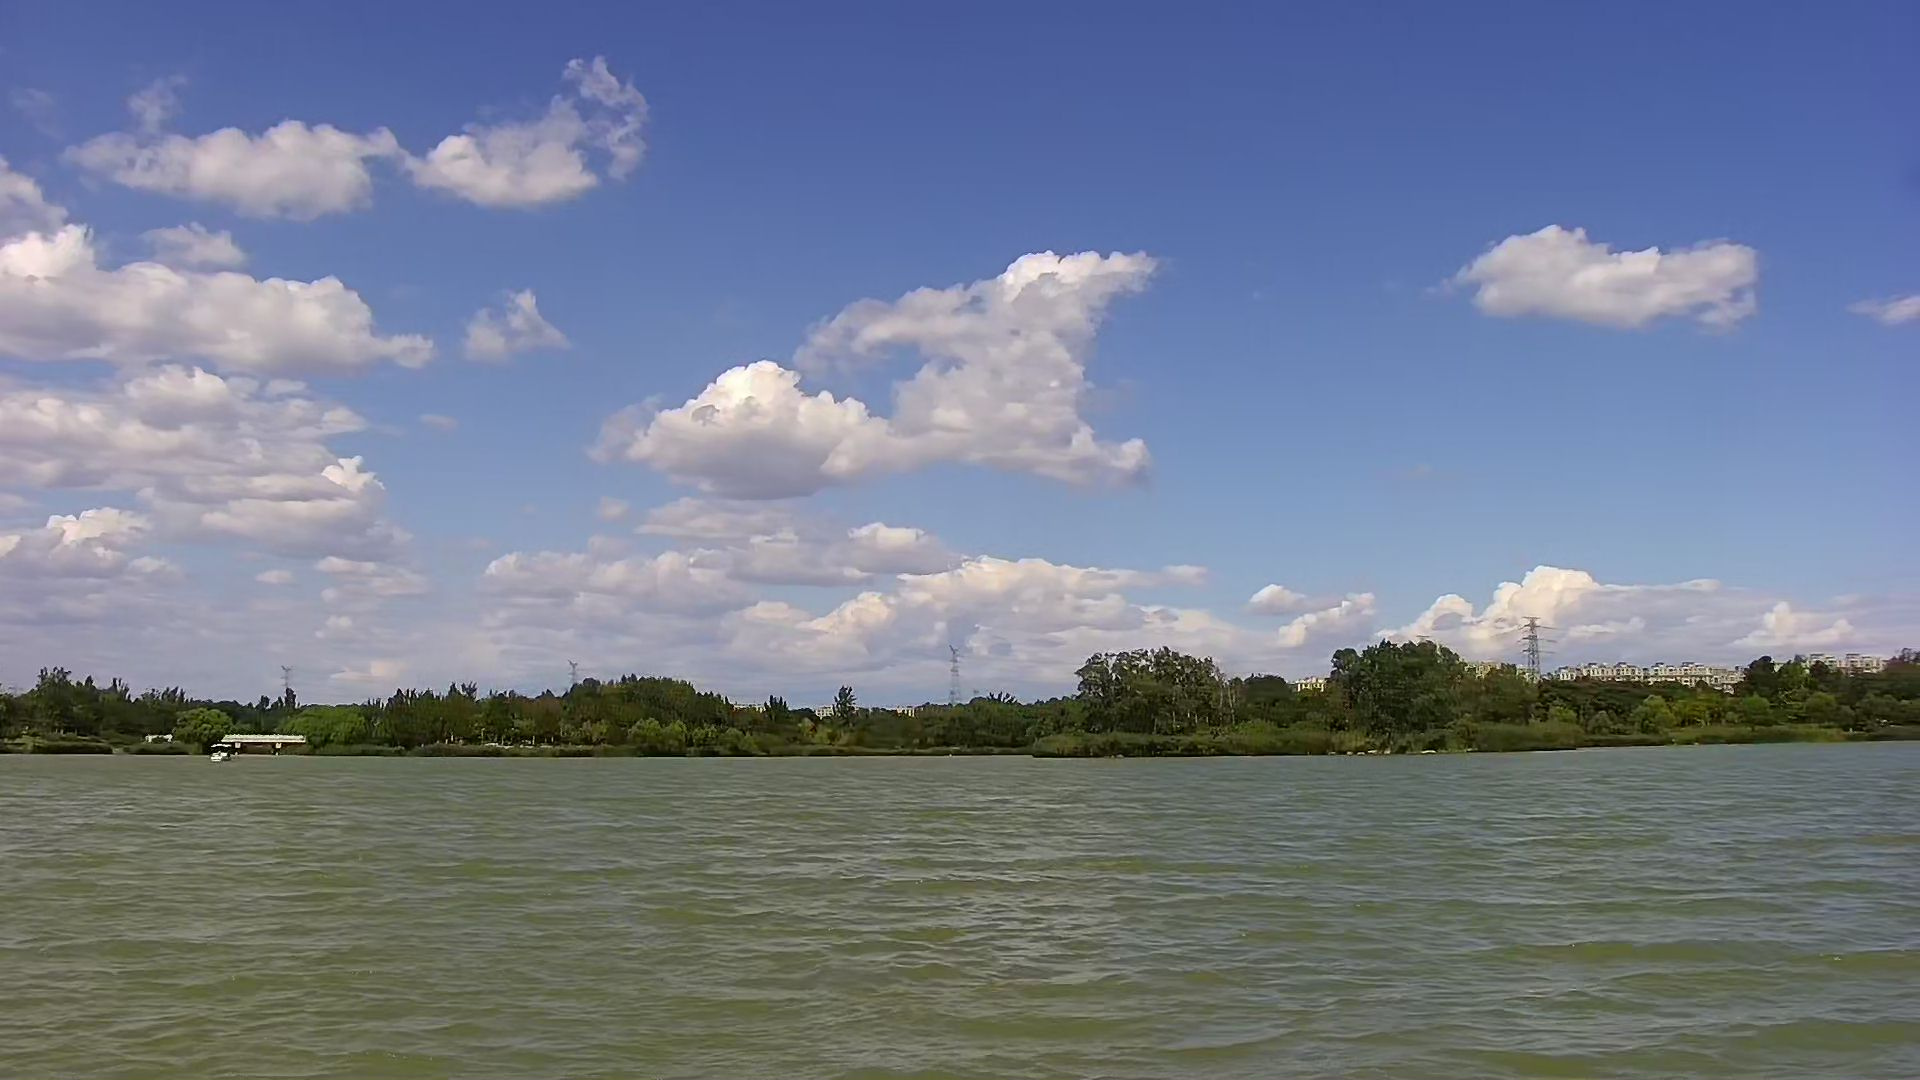bridge: (219, 727, 311, 760)
